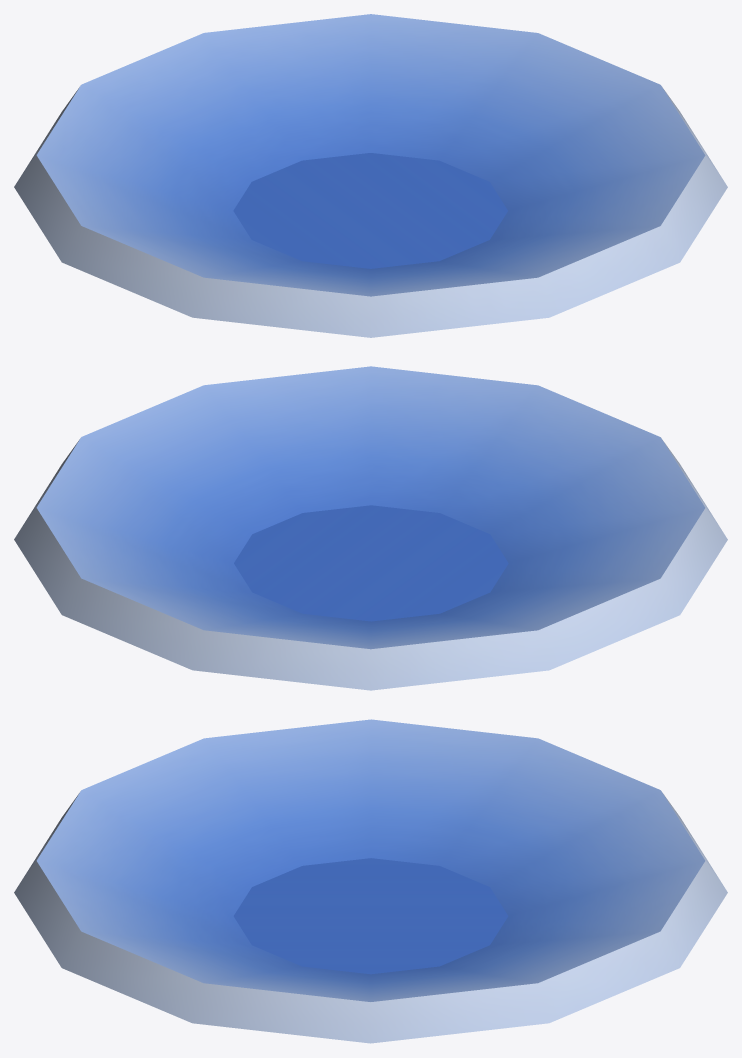
The model's file is m_FineSaucer02.fbx.
3 renders of one model, top to bottom at view 1: azimuth 30°, elevation 25°; view 2: azimuth 150°, elevation 25°; view 3: azimuth 270°, elevation 25°, orthographic.
Parts seen in each view (by area): view 1: m_FineSaucer02; view 2: m_FineSaucer02; view 3: m_FineSaucer02.
Part boxes in pixels (left/top/right/bottom): m_FineSaucer02: left=14, top=14, right=727, bottom=337; m_FineSaucer02: left=14, top=366, right=727, bottom=690; m_FineSaucer02: left=14, top=719, right=727, bottom=1043.
Size of the model in its own units: 13.02 by 1.87 by 13.02.
